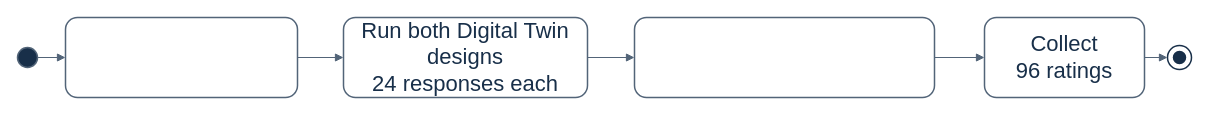
This 1210x116 diagram has some shape labels left out. The shapes that lost their labels are listed below. From the top down, each one's centre as x and y in pixels, then its label:
At point 181,57: "12 matched cases 2 turns per case".
At point 784,57: "Review all 48 responses twice with the same judge".
